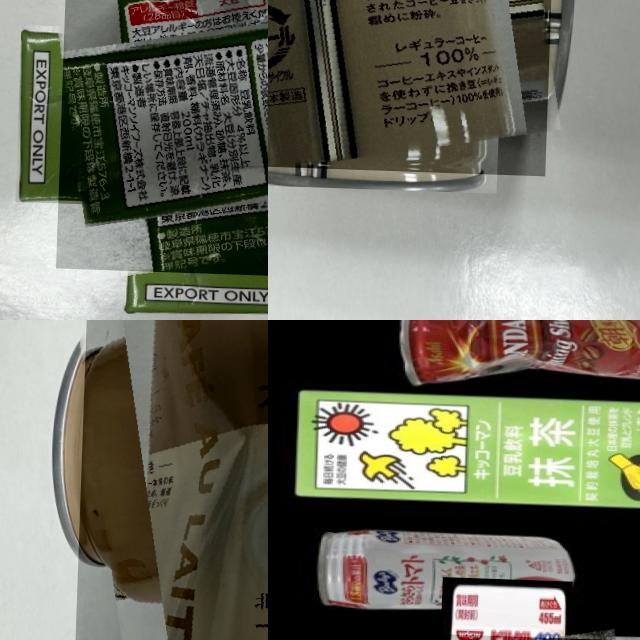Aluminium Foil: (55, 0, 268, 277), (288, 384, 640, 517)
Can: (74, 320, 268, 640), (268, 0, 558, 175), (311, 524, 577, 618), (401, 320, 640, 389)
